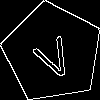V: (27, 27, 78, 83)
